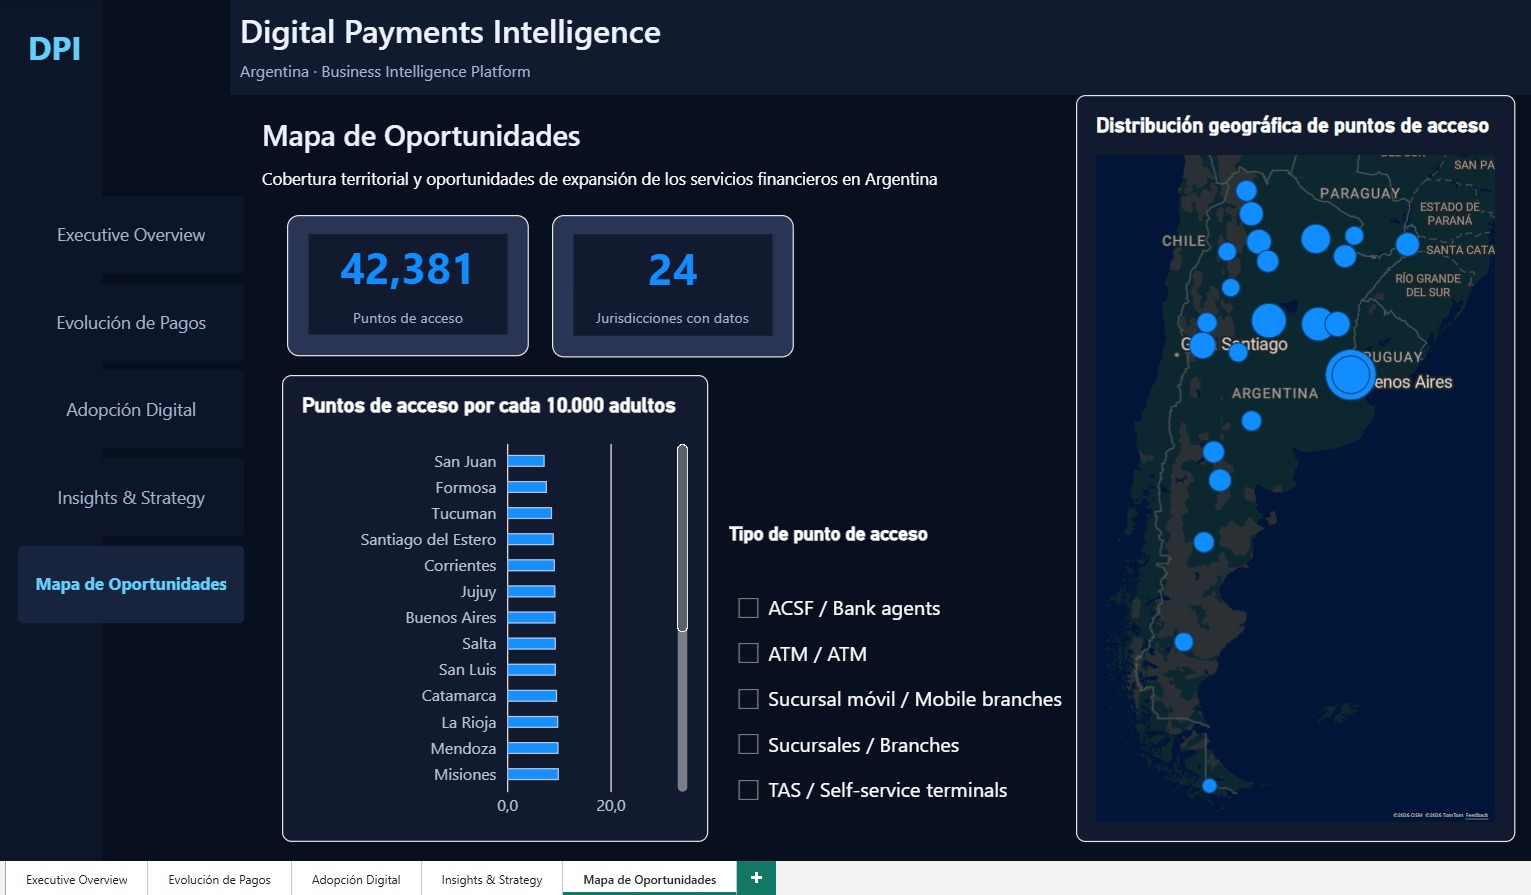

Layout of this report page (visuals, bound fields, positions):
{"tool":"powerbi","page":{"name":"Mapa de Oportunidades","canvas":[1280,720],"ordinal":4},"visuals":[{"type":"shape","box":[0,0,85,720],"z":0},{"type":"shape","box":[192.5,0,1088,80],"z":1000},{"type":"textbox","box":[200.1,7.8,391.6,45.7],"z":2000},{"type":"textbox","box":[200.1,50,261.3,30.2],"z":3000},{"type":"textbox","box":[23.3,21.6,93.2,56.9],"z":4000},{"type":"pageNavigator","box":[14.7,164.7,189.8,359.7],"z":5000},{"type":"textbox","box":[219.2,96.7,338.4,43.3],"z":6000},{"type":"textbox","box":[218.9,140,613.3,37.8],"z":7000},{"type":"clusteredBarChart","title":"Puntos de acceso por cada 10.000 adultos","fields":{"Category":["Dim_Provincia.Nombre"],"Y":["Medidas.Puntos_Cada_10000_Adultos"]},"box":[235.6,314.4,355.6,390],"z":8000},{"type":"azureMap","title":"Distribución geográfica de puntos de acceso","fields":{"Category":["Dim_Provincia.Ubicacion_Mapa"],"Size":["Medidas.Puntos_Acceso_Provincia"]},"box":[898.9,80,366.7,624.4],"z":9000},{"type":"advanceCardE03760C5AB684758B56AA29F9E6C257B","fields":{"mainMeasure":["Medidas.Puntos_Acceso_Provincia"]},"box":[240,180,202.2,117.8],"z":10000},{"type":"advanceCardE03760C5AB684758B56AA29F9E6C257B","fields":{"mainMeasure":["Medidas.Provincias_Con_Datos"]},"box":[461.1,180,202.2,118.9],"z":11000},{"type":"slicer","title":"Tipo de punto de acceso","fields":{"Values":["Dim_Puntos_Acceso.Nombre"]},"box":[608.9,436.7,290,267.8],"z":12000}]}

Visuals, with their boxes on the page's 1280x720 design canvas (x1, y1, x2, y2). These are canvas units, not pixel positions in the 1531x895 screenshot, which may show the page scaled, cropped or inside an application window:
shape: bbox=[0, 0, 85, 720]
shape: bbox=[192, 0, 1280, 80]
textbox: bbox=[200, 8, 592, 54]
textbox: bbox=[200, 50, 461, 80]
textbox: bbox=[23, 22, 116, 78]
pageNavigator: bbox=[15, 165, 204, 524]
textbox: bbox=[219, 97, 558, 140]
textbox: bbox=[219, 140, 832, 178]
"Puntos de acceso por cada 10.000 adultos" clusteredBarChart: bbox=[236, 314, 591, 704]
"Distribución geográfica de puntos de acceso" azureMap: bbox=[899, 80, 1266, 704]
advanceCardE03760C5AB684758B56AA29F9E6C257B - Medidas.Puntos_Acceso_Provincia: bbox=[240, 180, 442, 298]
advanceCardE03760C5AB684758B56AA29F9E6C257B - Medidas.Provincias_Con_Datos: bbox=[461, 180, 663, 299]
"Tipo de punto de acceso" slicer: bbox=[609, 437, 899, 704]
